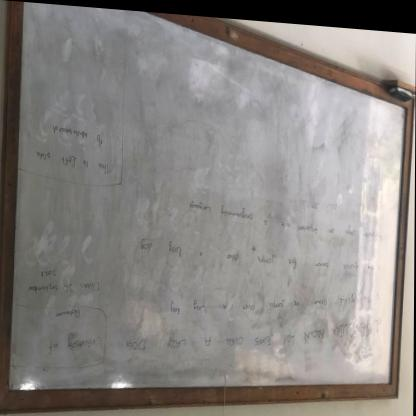Handwritten text: (120, 305, 379, 365), (178, 187, 387, 241), (134, 230, 378, 272), (167, 277, 377, 320), (34, 145, 113, 182), (47, 116, 107, 147), (47, 329, 103, 362), (25, 276, 61, 300), (54, 303, 86, 325), (85, 279, 105, 300)
Whiteboard: (0, 1, 413, 412)
